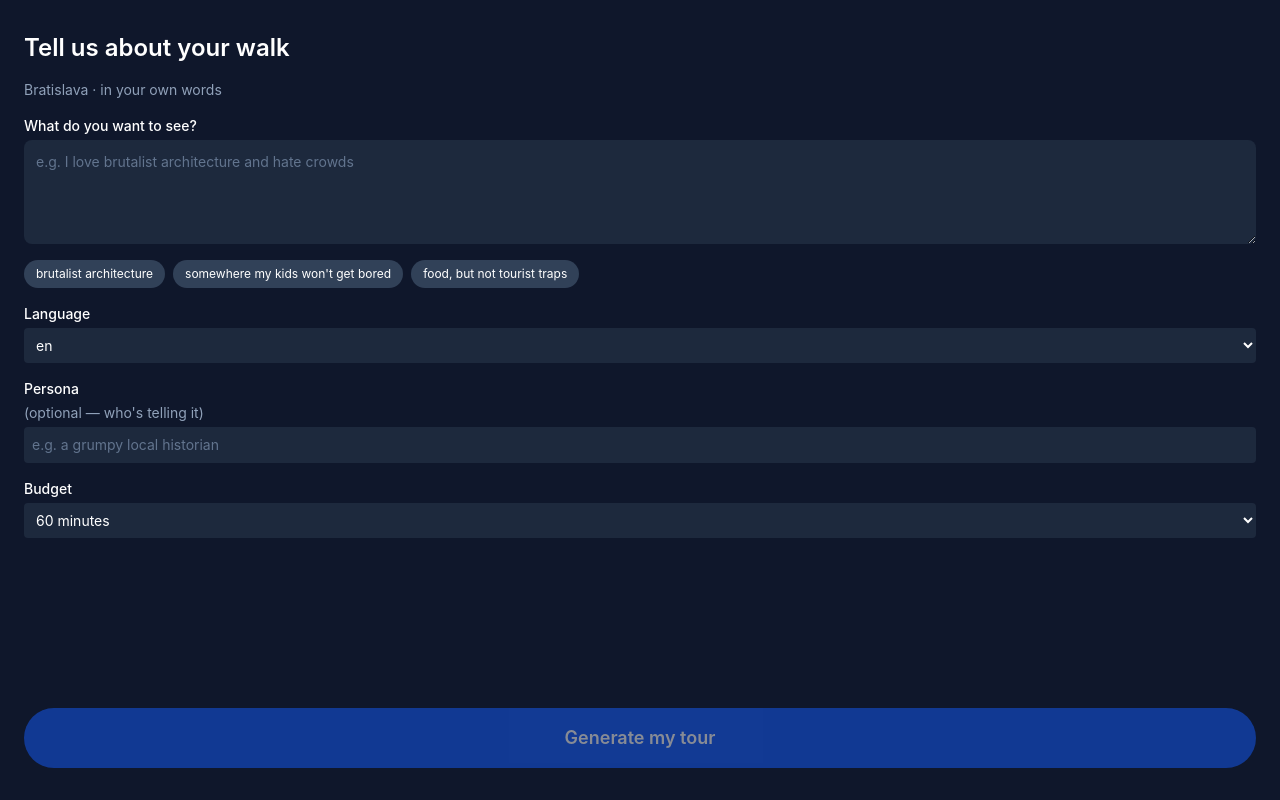
GenerateScreen › a chip appends its text into the textarea rather than replacing form state
In the text box labelled "What do you want to see?": x=640, y=192 [24,140,1256,244], type "I love markets"
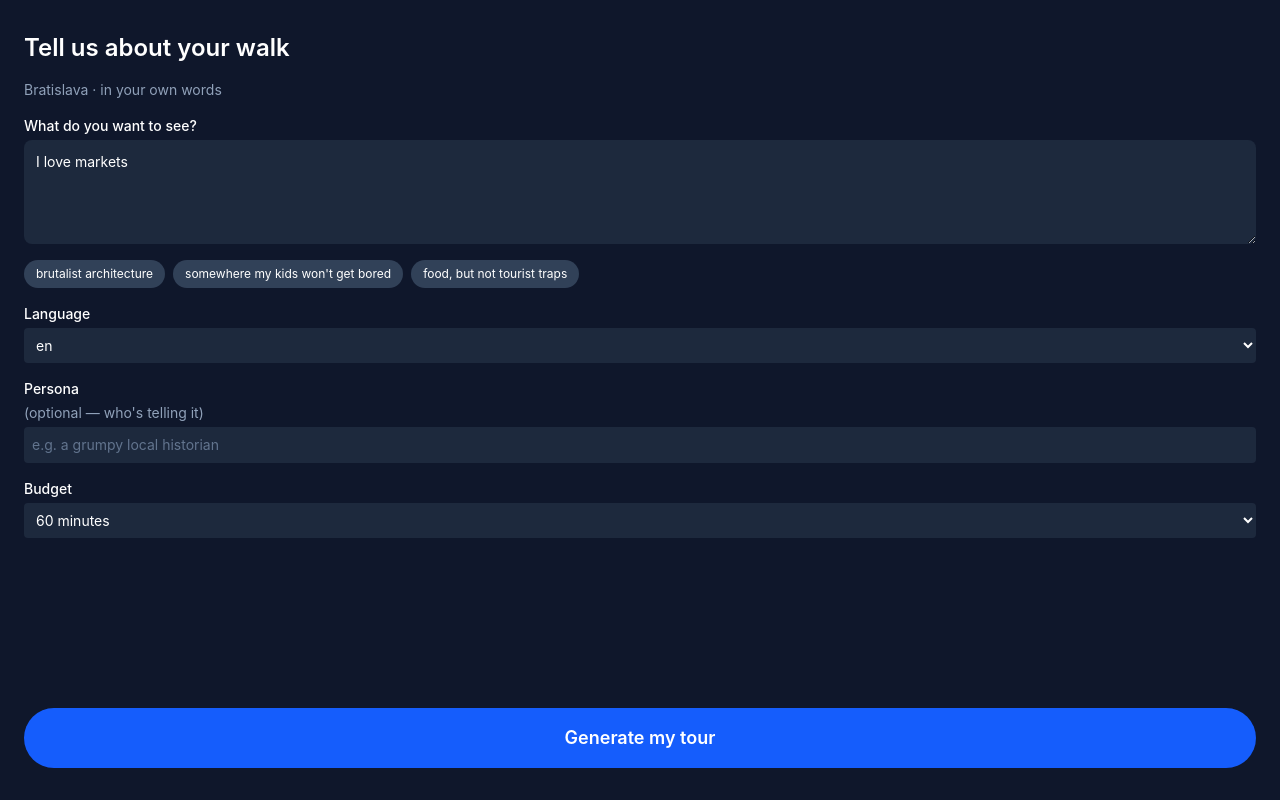
Click the button "brutalist architecture": x=94, y=274 [24,260,165,288]
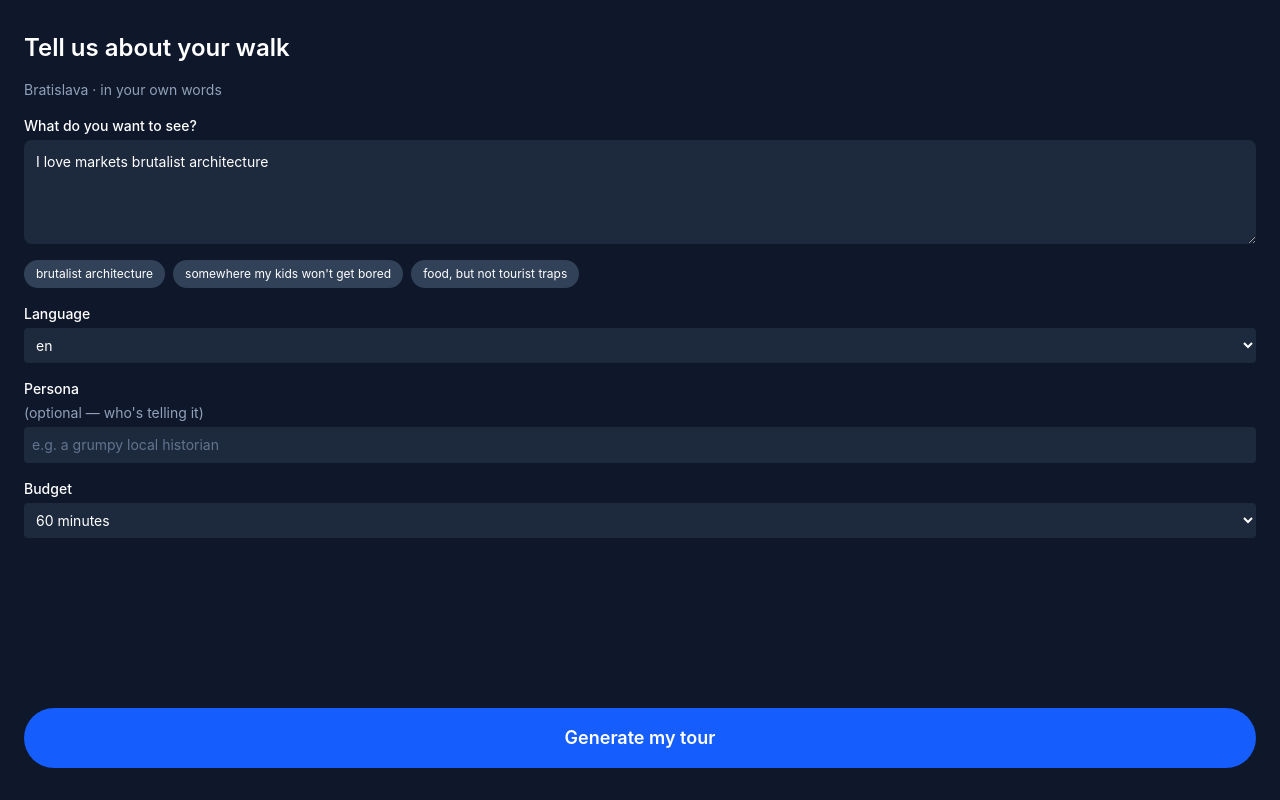
Expected: the text box labelled "What do you want to see?" holds "I love markets brutalist architecture", [24,140,1256,244]
